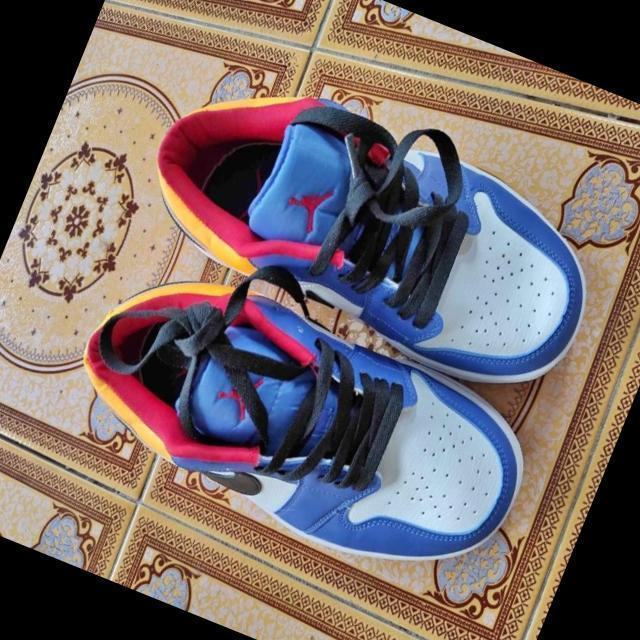nike fake jordan 1: (120, 46, 622, 414), (50, 241, 549, 605)
